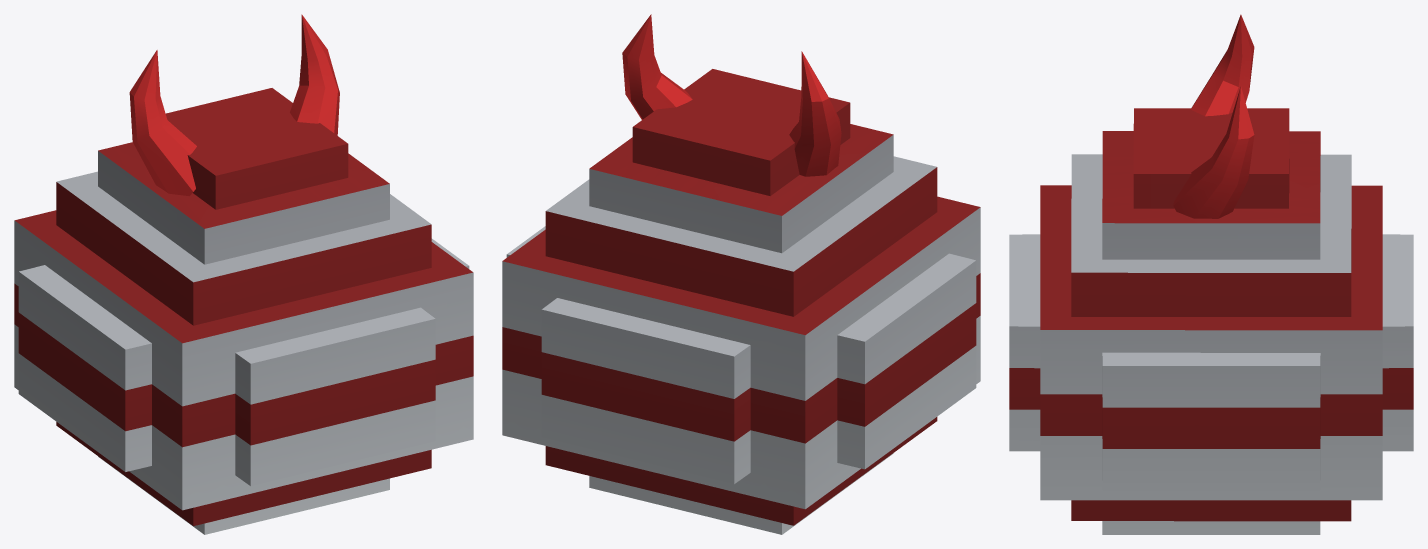
The model's file is Oni_Tiger_Egg.fbx.
3 views of the same model, side by side, from view 1: azimuth 30°, elevation 25°; view 2: azimuth 150°, elevation 25°; view 3: azimuth 270°, elevation 25° (orthographic). The views are drawn at different scales.
Visible parts, largest first — view 1: Oni_Tiger_Egg; view 2: Oni_Tiger_Egg; view 3: Oni_Tiger_Egg.
Boxes of the visible parts, box(x1,y1,x2,y2) form: Oni_Tiger_Egg: box(14, 14, 473, 534); Oni_Tiger_Egg: box(502, 14, 980, 534); Oni_Tiger_Egg: box(1009, 14, 1413, 534).
Size of the model in its own units: 78.02 by 93.49 by 78.02.
